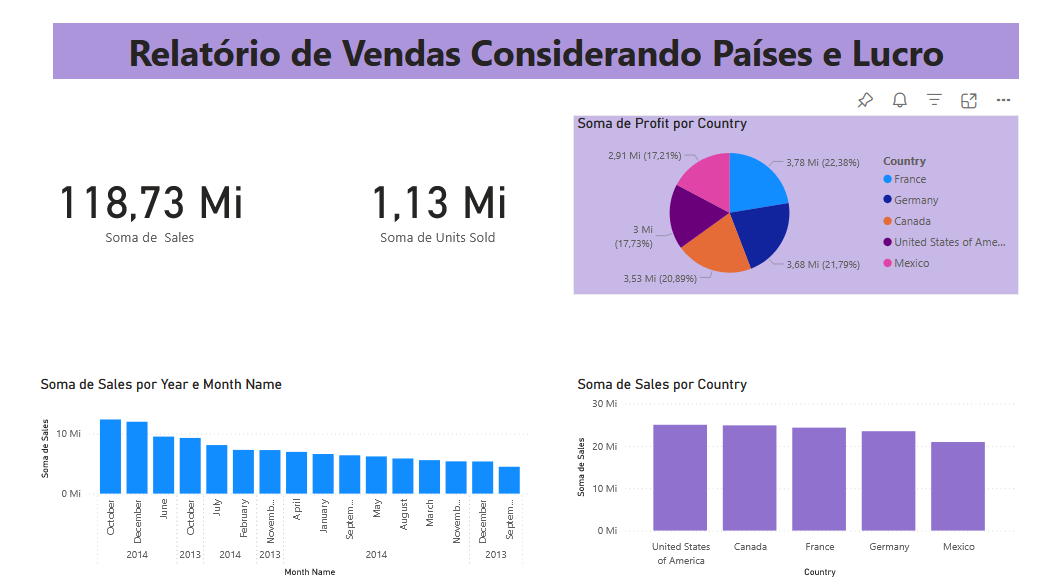

The page's visual inventory and layout, read from the dashboard file:
{"tool":"powerbi","page":{"name":"Página 2","canvas":[1280,720],"ordinal":1},"visuals":[{"type":"textbox","box":[74.9,33,1158.1,67.4],"z":0},{"type":"card","fields":{"Values":["Sum(financials. Sales)"]},"box":[31.5,143.8,320.6,215.7],"z":1000},{"type":"card","fields":{"Values":["Sum(financials.Units Sold)"]},"box":[376,143.8,322.1,215.7],"z":2000},{"type":"pieChart","fields":{"Category":["financials.Country"],"Y":["Sum(financials.Profit)"]},"box":[698.1,143.8,534.8,215.7],"z":3000},{"type":"clusteredColumnChart","fields":{"Category":["financials.Year","financials.Month Name"],"Y":["Sum(financials. Sales)"]},"box":[55.4,456.9,597.8,245.7],"z":4000},{"type":"clusteredColumnChart","fields":{"Category":["financials.Country"],"Y":["Sum(financials. Sales)"]},"box":[698,457,535,246],"z":5000}]}

Visuals, with their boxes on the page's 1280x720 design canvas (x1, y1, x2, y2). These are canvas units, not pixel positions in the 1039x587 screenshot, which may show the page scaled, cropped or inside an application window:
textbox: detection(75, 33, 1233, 100)
card - Sum(financials. Sales): detection(32, 144, 352, 360)
card - Sum(financials.Units Sold): detection(376, 144, 698, 360)
pieChart - financials.Country x Sum(financials.Profit): detection(698, 144, 1233, 360)
clusteredColumnChart - financials.Year x financials.Month Name: detection(55, 457, 653, 703)
clusteredColumnChart - financials.Country x Sum(financials. Sales): detection(698, 457, 1233, 703)
